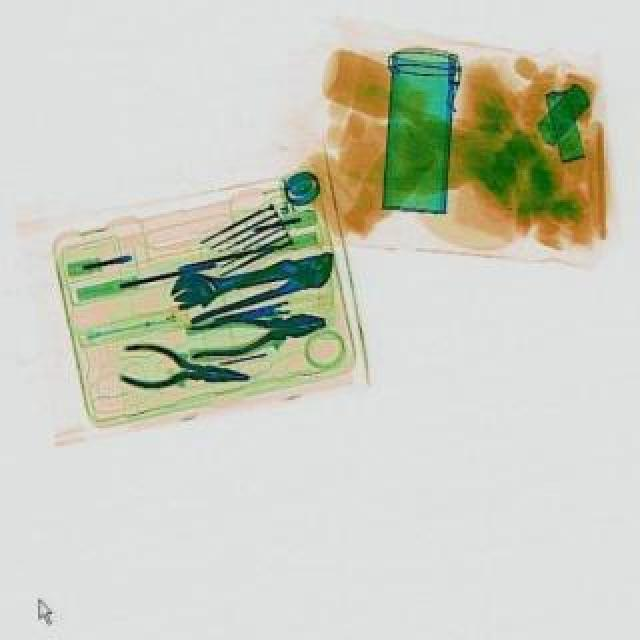scissors: (164, 242, 328, 312)
wrench: (184, 302, 328, 360), (118, 340, 250, 400)
